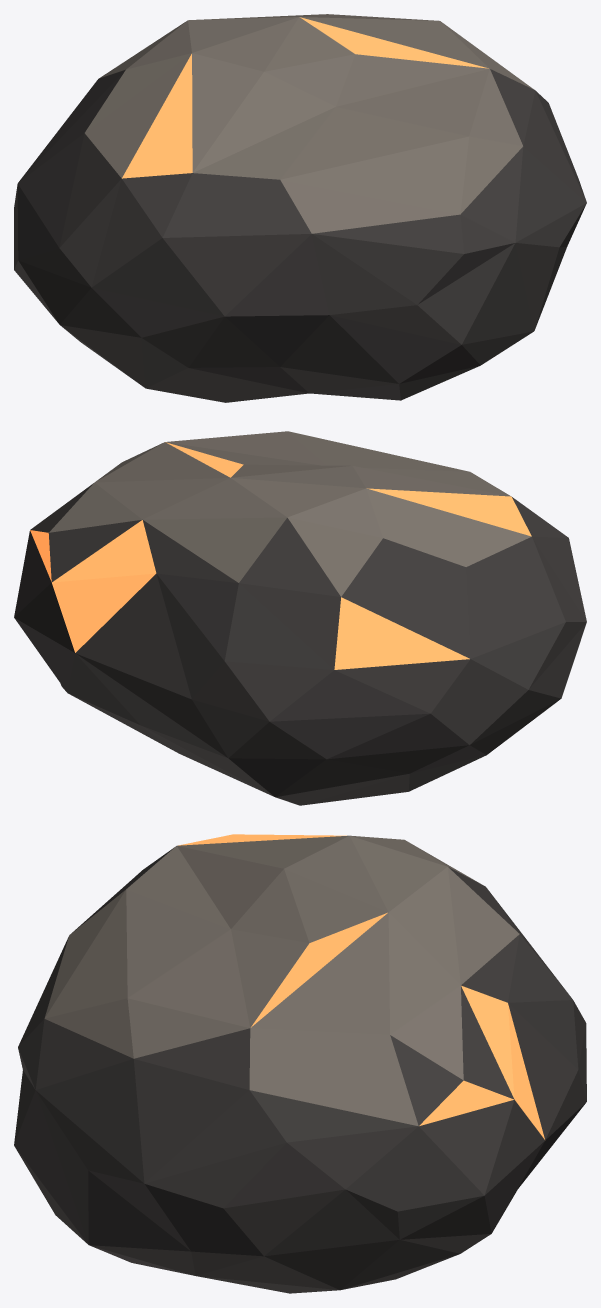
Rendered from cooled-lava-chunk_lod1.glb.
3 renders of one model, top to bottom at view 1: azimuth 30°, elevation 25°; view 2: azimuth 150°, elevation 25°; view 3: azimuth 270°, elevation 25°, orthographic. The views are drawn at different scales.
Visible parts, largest first — view 1: cooled-lava-chunk_lod1; view 2: cooled-lava-chunk_lod1; view 3: cooled-lava-chunk_lod1.
Boxes of the visible parts, x1=… form: cooled-lava-chunk_lod1: x1=14, y1=14, x2=586, y2=402; cooled-lava-chunk_lod1: x1=14, y1=431, x2=586, y2=805; cooled-lava-chunk_lod1: x1=14, y1=834, x2=586, y2=1293.
Bounding box in the file's own units: 1.26 × 0.7596 × 1.07.
